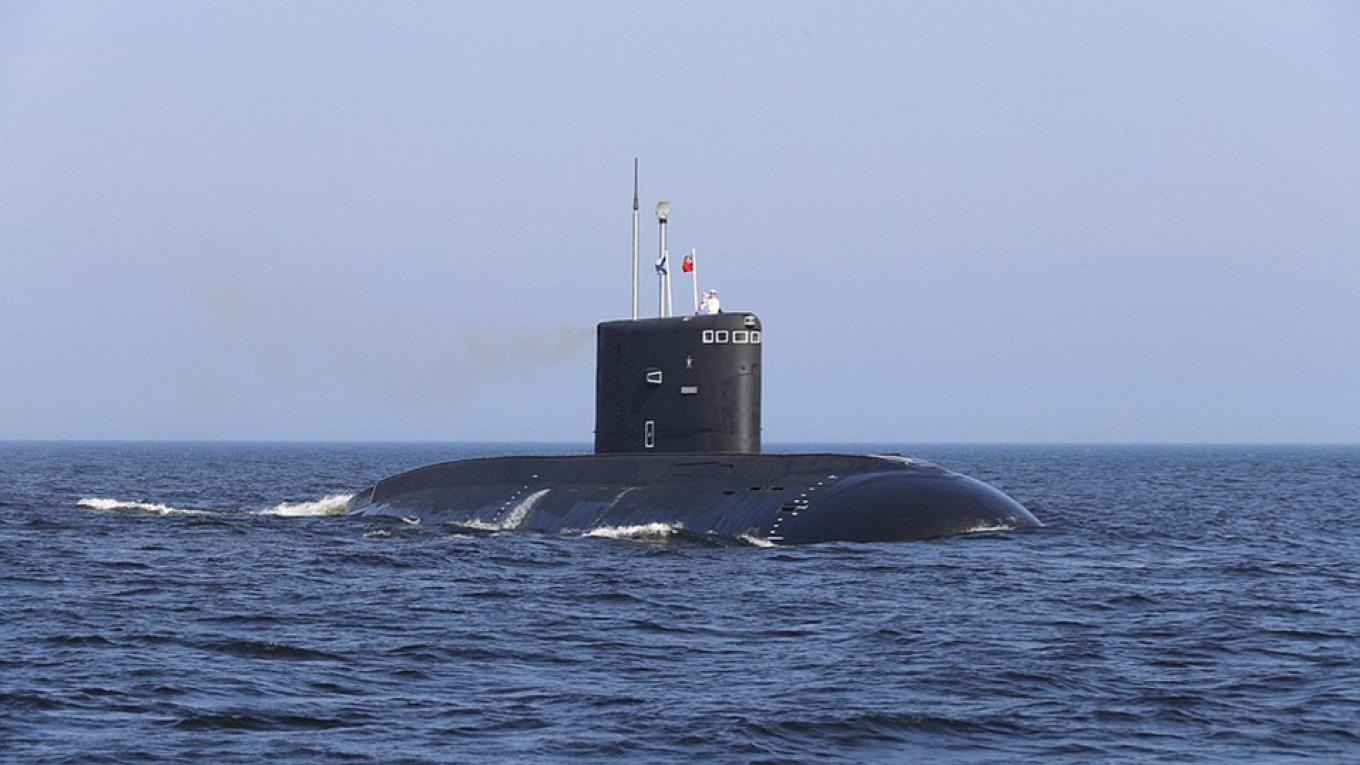Submarine: (186, 158, 1138, 658)
